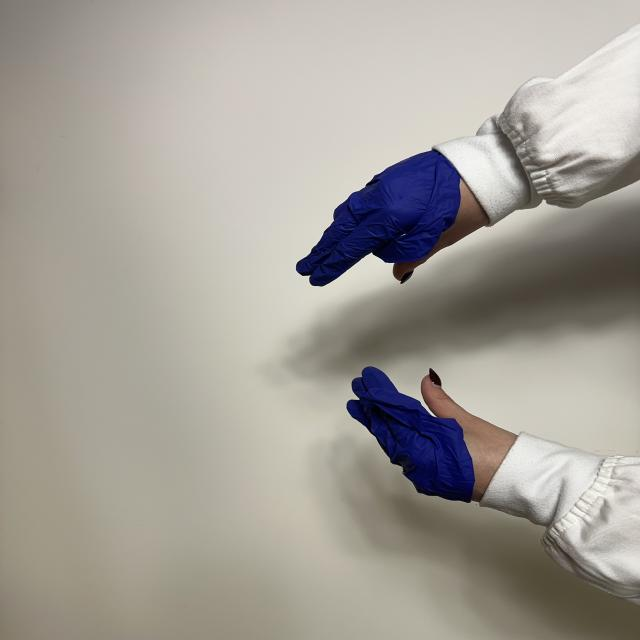glove_partial: (296, 151, 485, 286), (347, 367, 517, 502)
